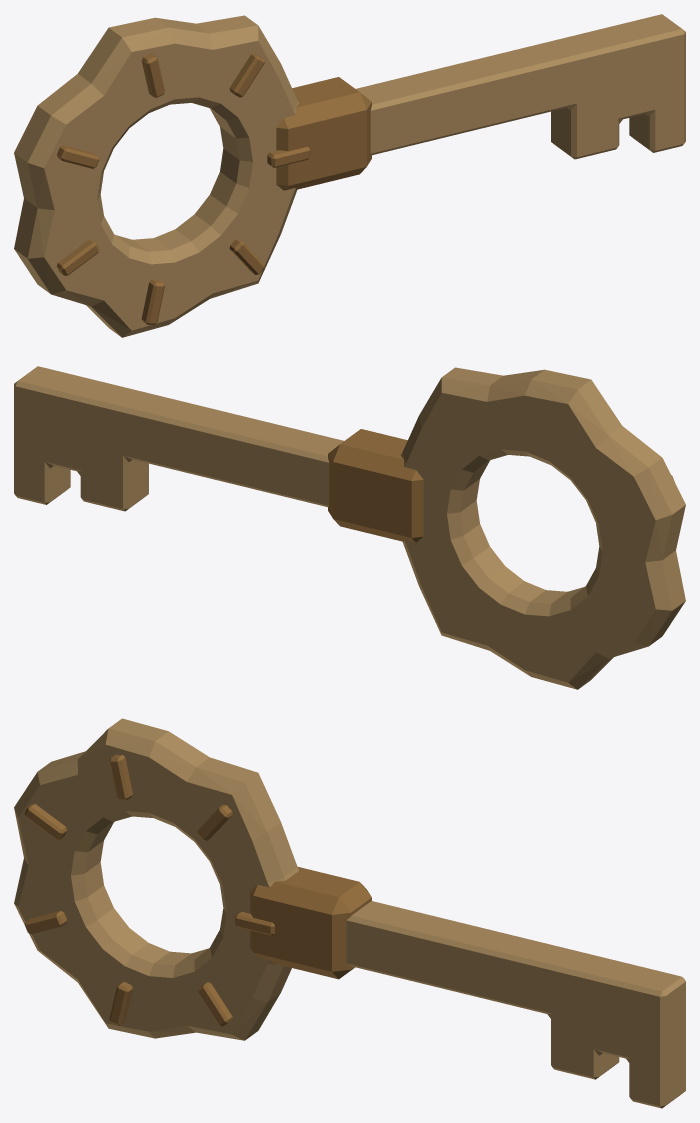
The model's file is VAULT_KEY.lo.glb.
The picture shows the model from 3 angles, top to bottom: view 1: azimuth 30°, elevation 25°; view 2: azimuth 150°, elevation 25°; view 3: azimuth 330°, elevation 25°; orthographic projection.
Parts seen in each view (by area): view 1: Body_Mesh; view 2: Body_Mesh; view 3: Body_Mesh.
Part boxes in pixels (x1,y1,x2,y2): Body_Mesh: (14, 14, 685, 337); Body_Mesh: (14, 366, 685, 689); Body_Mesh: (14, 718, 685, 1108).
Size of the model in its own units: 1.08 by 0.4747 by 0.106.
